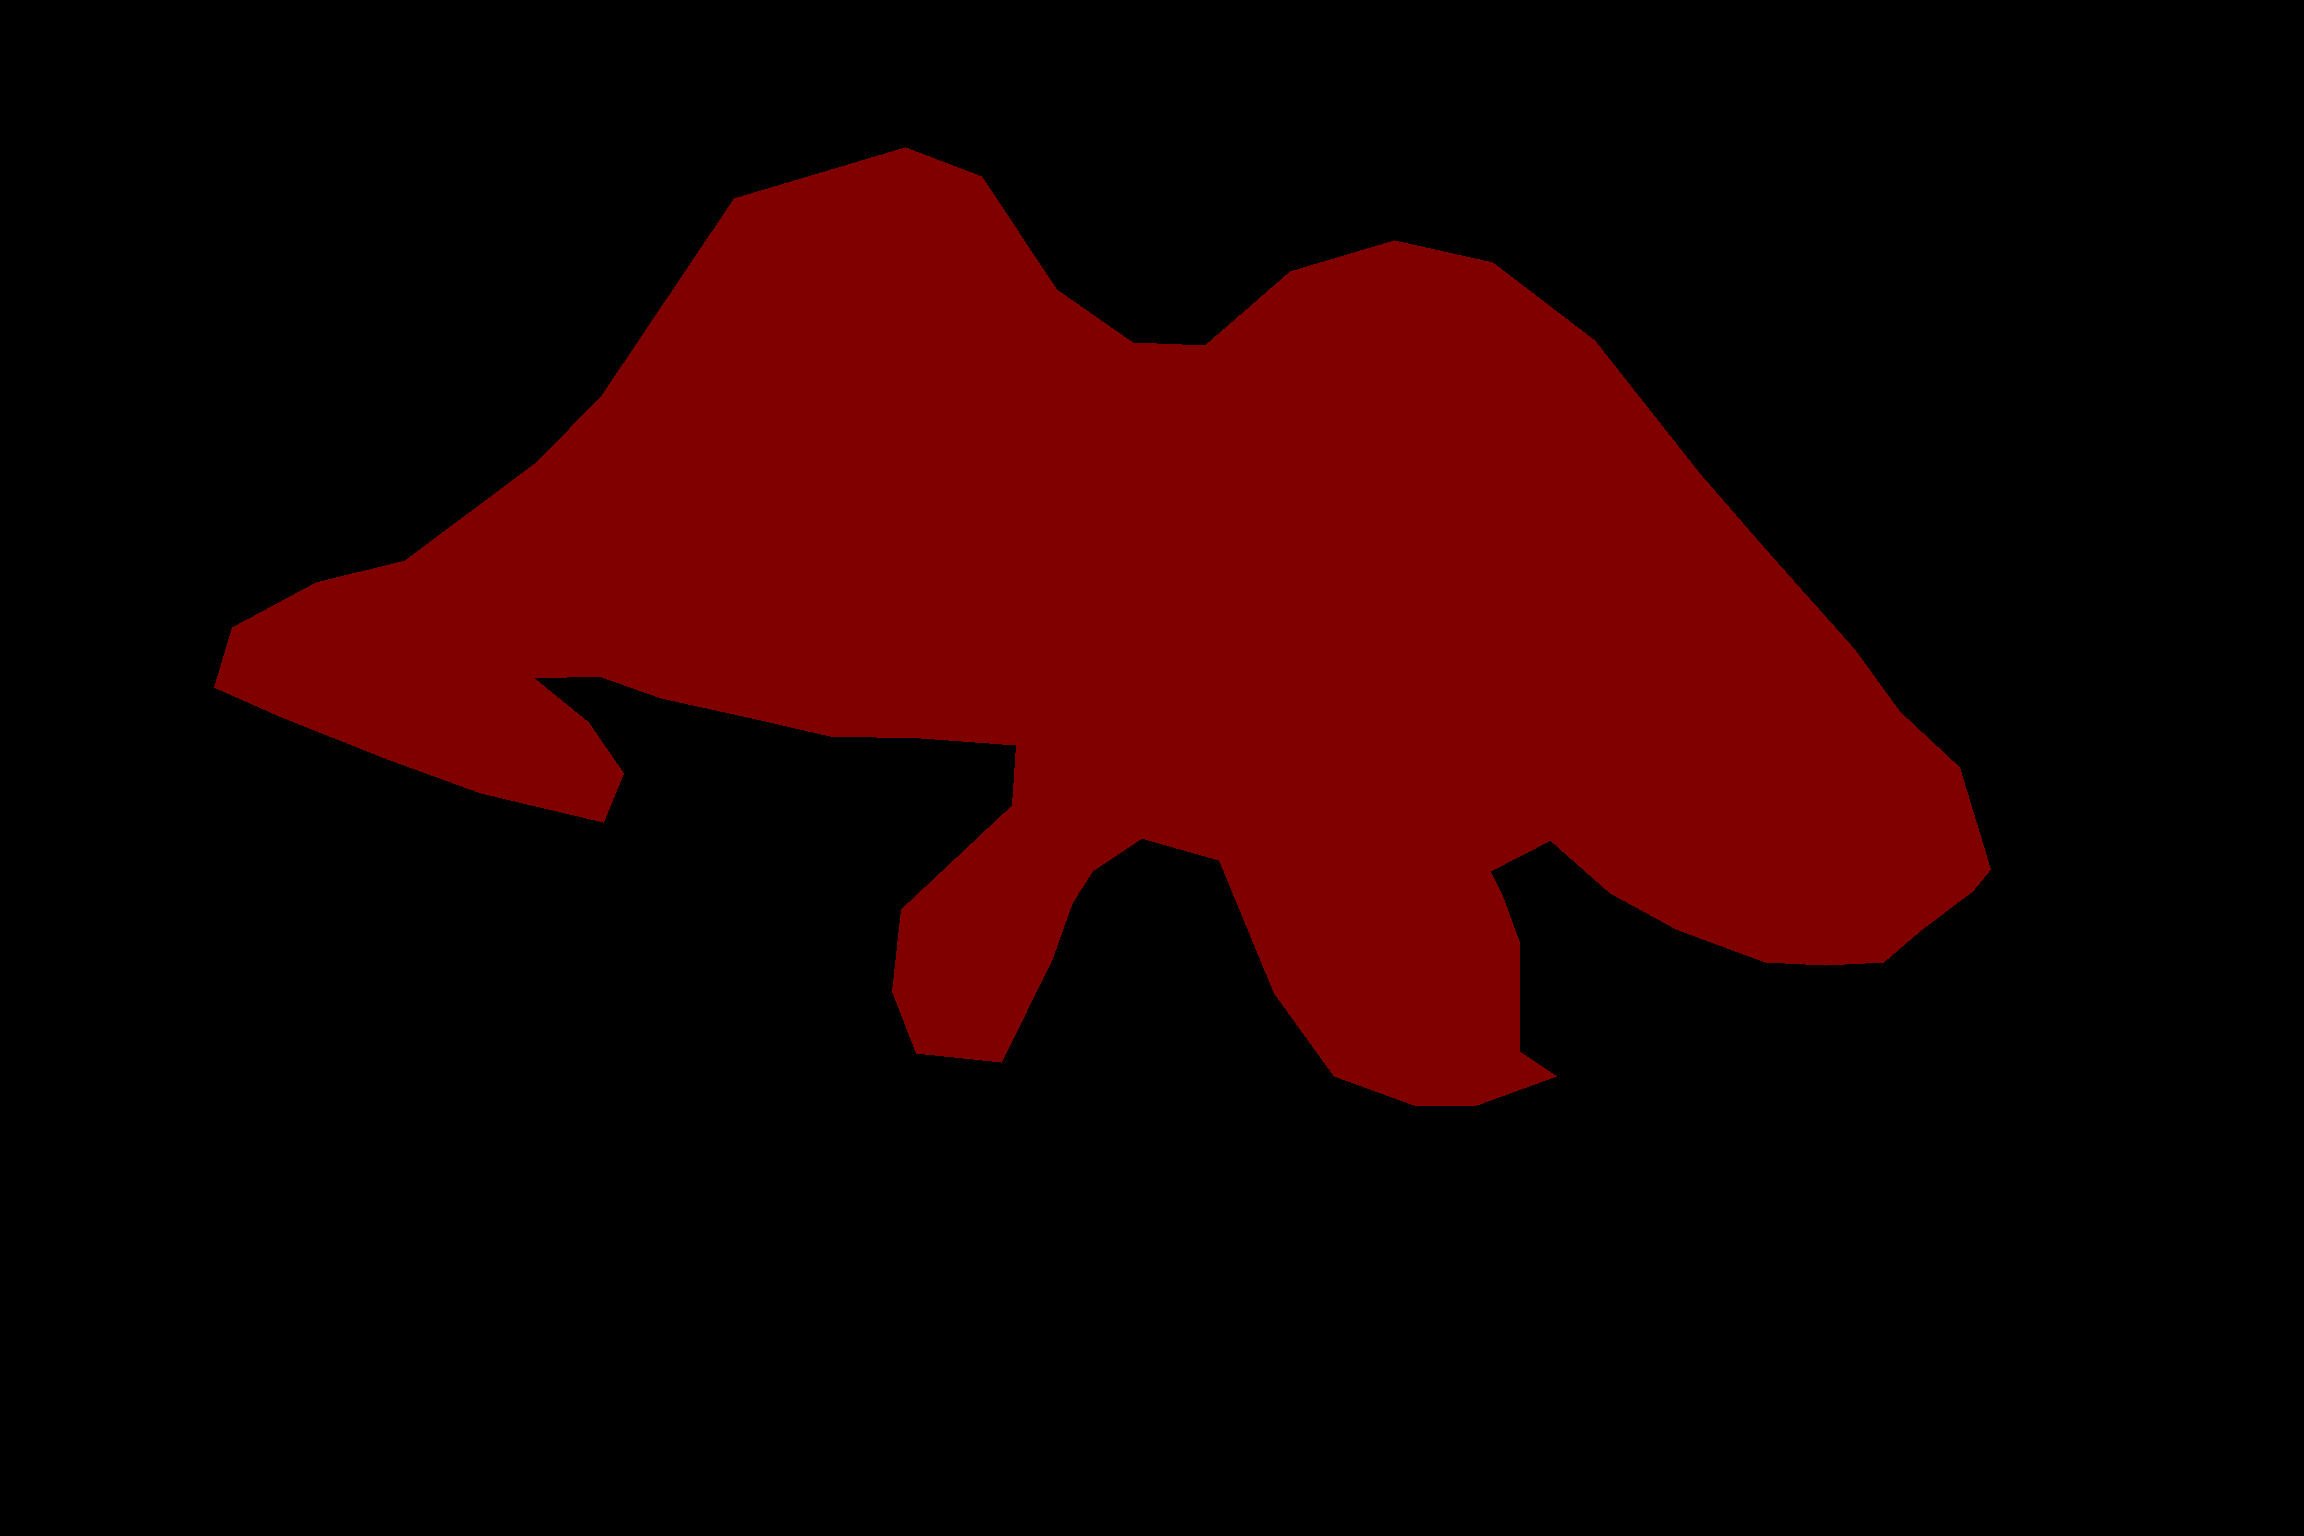fire: (214, 147, 1990, 1106)
